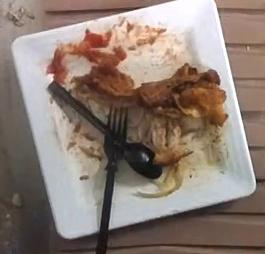chicken: (74, 63, 228, 126)
